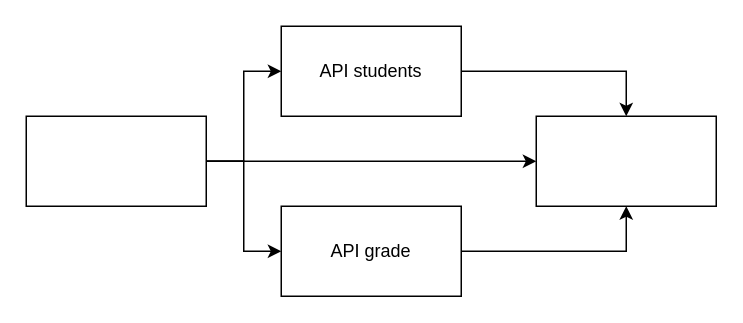
Image size: 743x323. Some labels were removed from this diagram. The shapes that lost their labels are listed below. From the top down, each one's centre as x and y in pixels, then its label:
At (115,160): "school".
At (625,160): "API registration".
